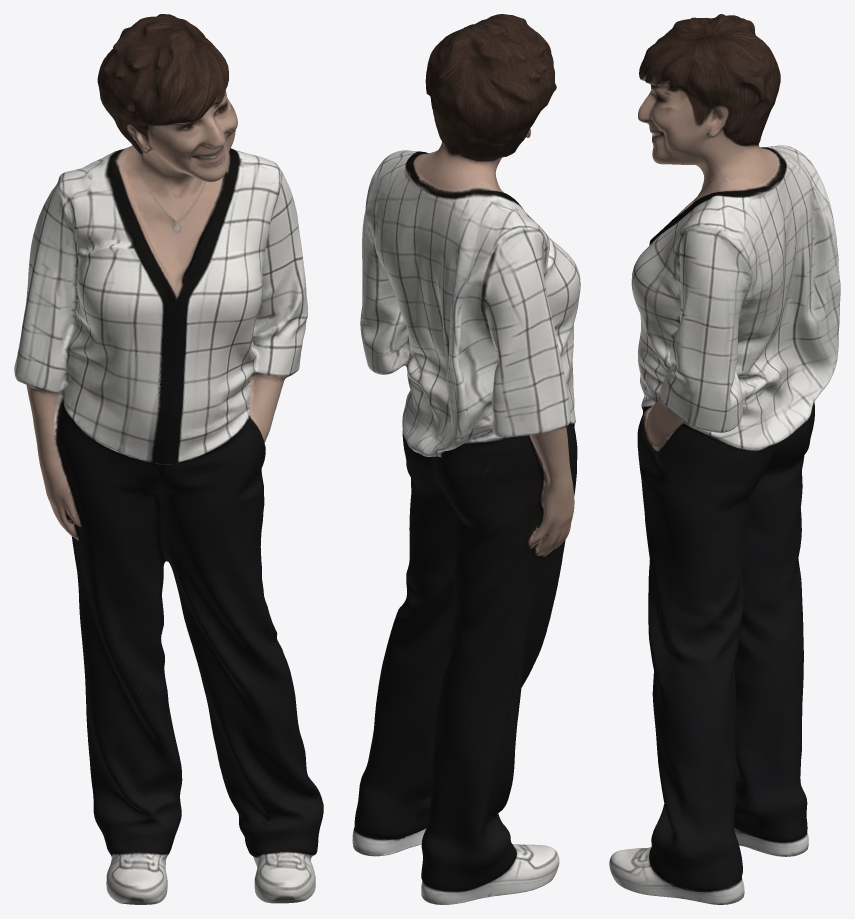
The model's file is Meshy_AI_Maya_1008001820_texture.fbx.
3 views of the same model, side by side, from view 1: azimuth 30°, elevation 25°; view 2: azimuth 150°, elevation 25°; view 3: azimuth 270°, elevation 25° (orthographic). The views are drawn at different scales.
Parts seen in each view (by area): view 1: Mesh_0; view 2: Mesh_0; view 3: Mesh_0.
Boxes of the visible parts, bbox=[...] form: Mesh_0: bbox=[14, 14, 323, 904]; Mesh_0: bbox=[352, 14, 580, 904]; Mesh_0: bbox=[609, 14, 840, 904].
Bounding box in the file's own units: 58.43 × 190 × 48.31.
Materials: 1 (1 with a texture image).
